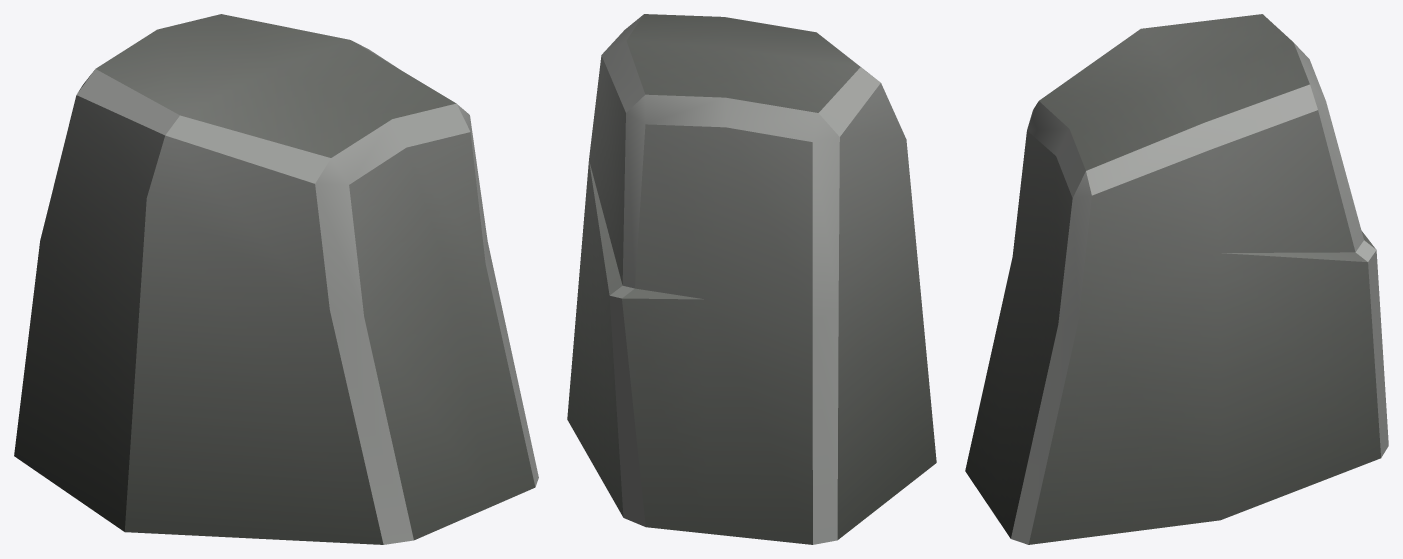
File: Rock-1-1.fbx
The picture shows the model from 3 angles, left to right: view 1: azimuth 30°, elevation 25°; view 2: azimuth 150°, elevation 25°; view 3: azimuth 270°, elevation 25°; orthographic projection. The views are drawn at different scales.
Parts seen in each view (by area): view 1: Rock-1-1; view 2: Rock-1-1; view 3: Rock-1-1.
Boxes of the visible parts, x1=… form: Rock-1-1: x1=14, y1=14, x2=538, y2=544; Rock-1-1: x1=567, y1=14, x2=936, y2=544; Rock-1-1: x1=965, y1=14, x2=1388, y2=544.
Size of the model in its own units: 177 by 185 by 183.
